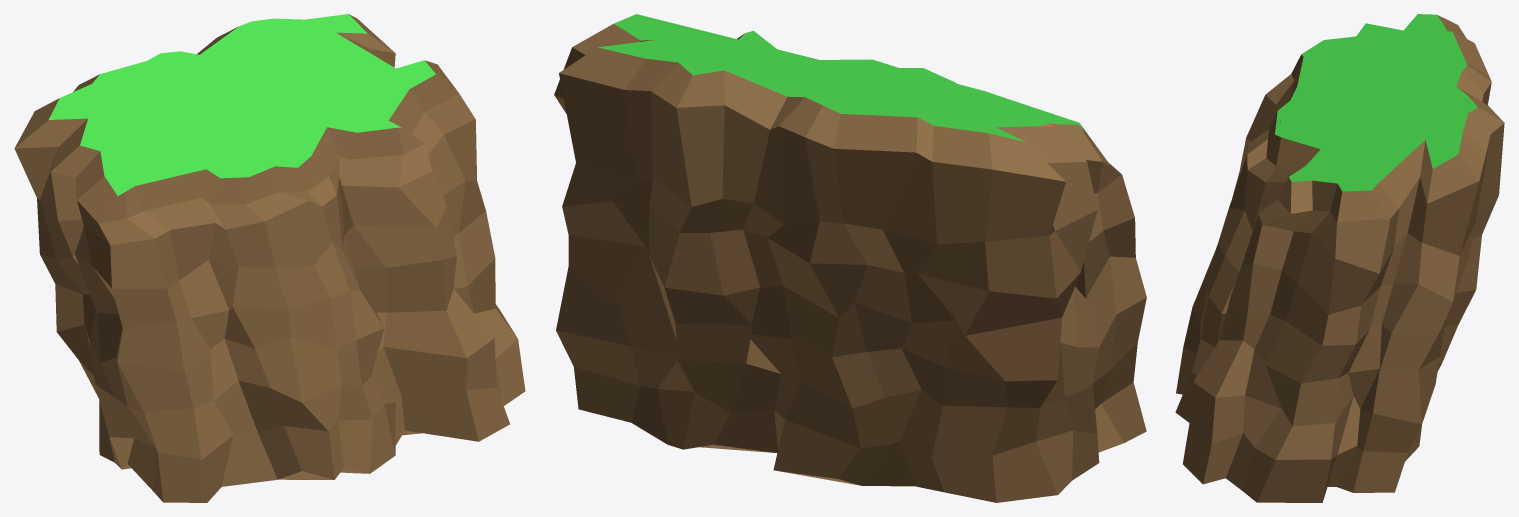
Rendered from Mountan_Three.fbx.
3 renders of one model, left to right at view 1: azimuth 30°, elevation 25°; view 2: azimuth 150°, elevation 25°; view 3: azimuth 270°, elevation 25°, orthographic. The views are drawn at different scales.
Visible parts, largest first — view 1: Plane; view 2: Plane; view 3: Plane.
Part boxes in pixels (box(x1,y1,x2,y2)): Plane: box(14, 14, 525, 502); Plane: box(554, 14, 1146, 502); Plane: box(1175, 14, 1504, 502).
Size of the model in its own units: 1019 by 752 by 676.
